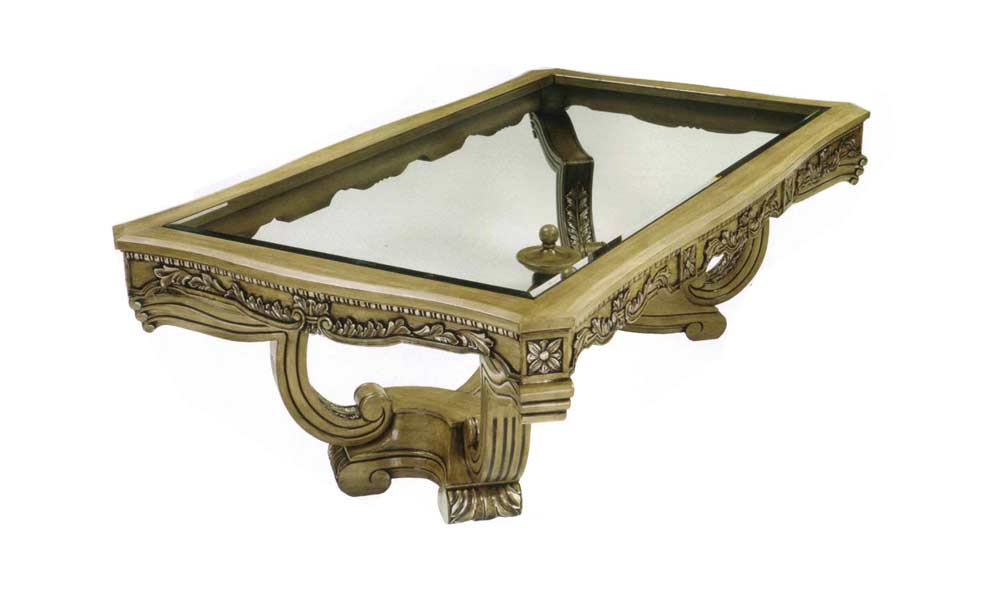Carving Table: (122, 59, 861, 539)
